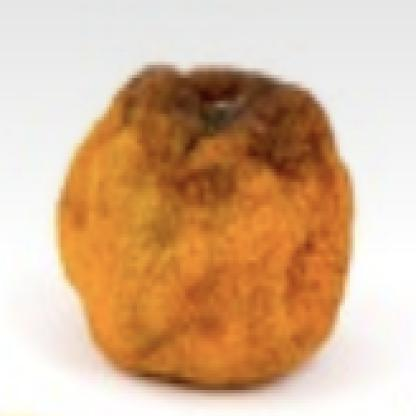rotten: (61, 62, 352, 388)
